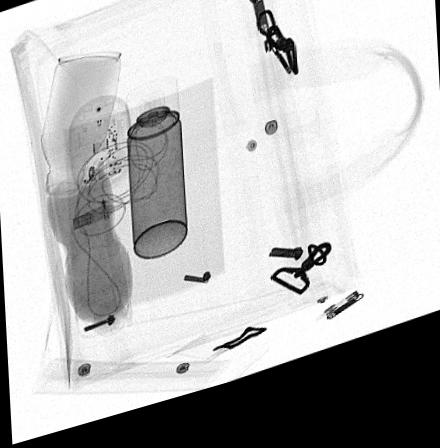Sprayer: (124, 85, 188, 269)
